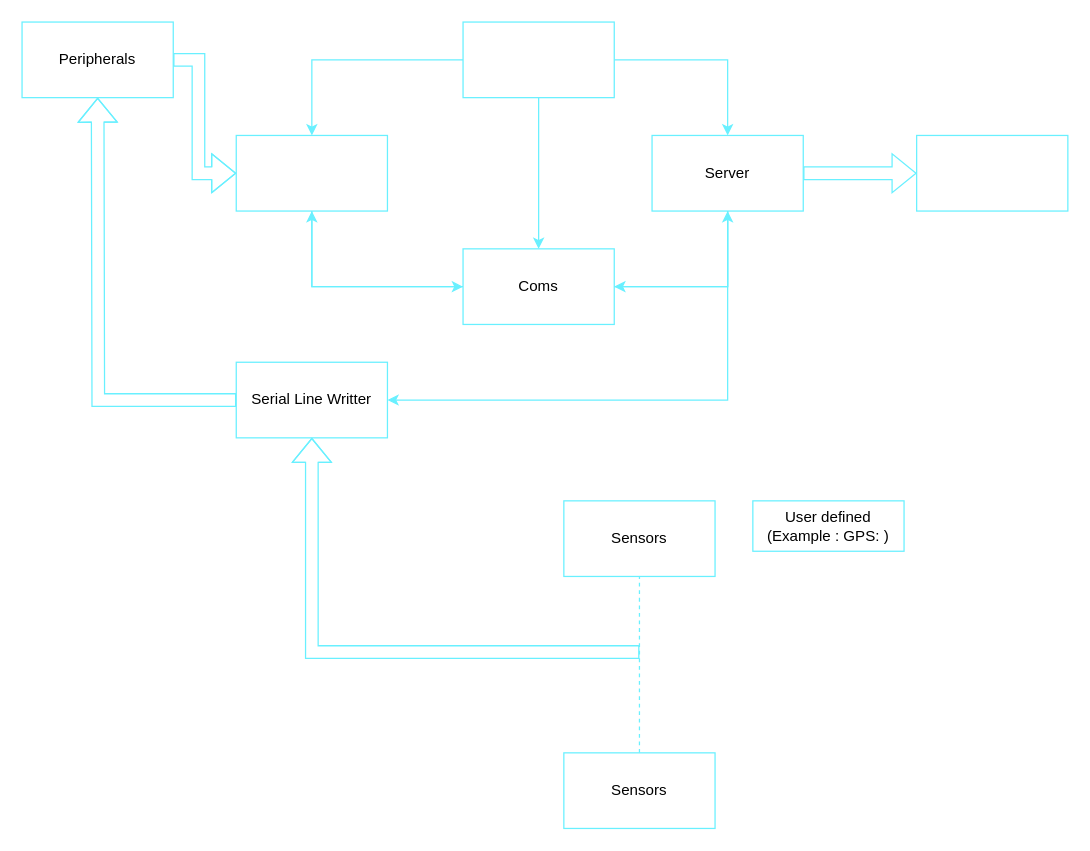
This 1090x851 diagram has some shape labels left out. The box of each missing label's shape, as (x1, y1, x2, y2) in pixels:
Host: (915, 134, 1068, 211)
Main: (462, 21, 614, 98)
Serial line Listner: (235, 134, 387, 211)
